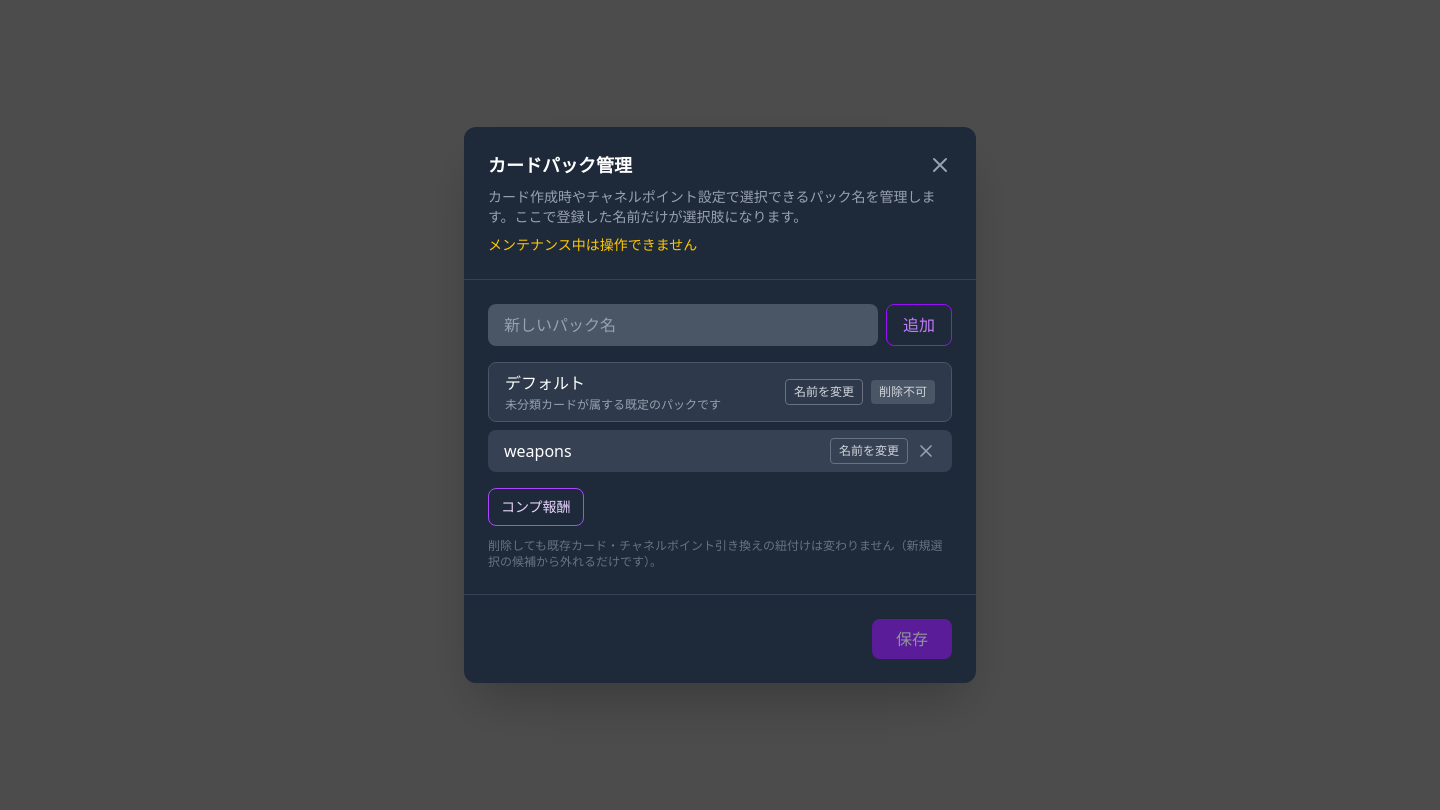
Test case: CardPackModal maintenance integration › リネームのSaveボタンはmode!=offでdisableされる
This screenshot has width=1440, height=810.
Click the button with aria-label "Rename weapons": coordinates (869, 451) [830,438,908,464]
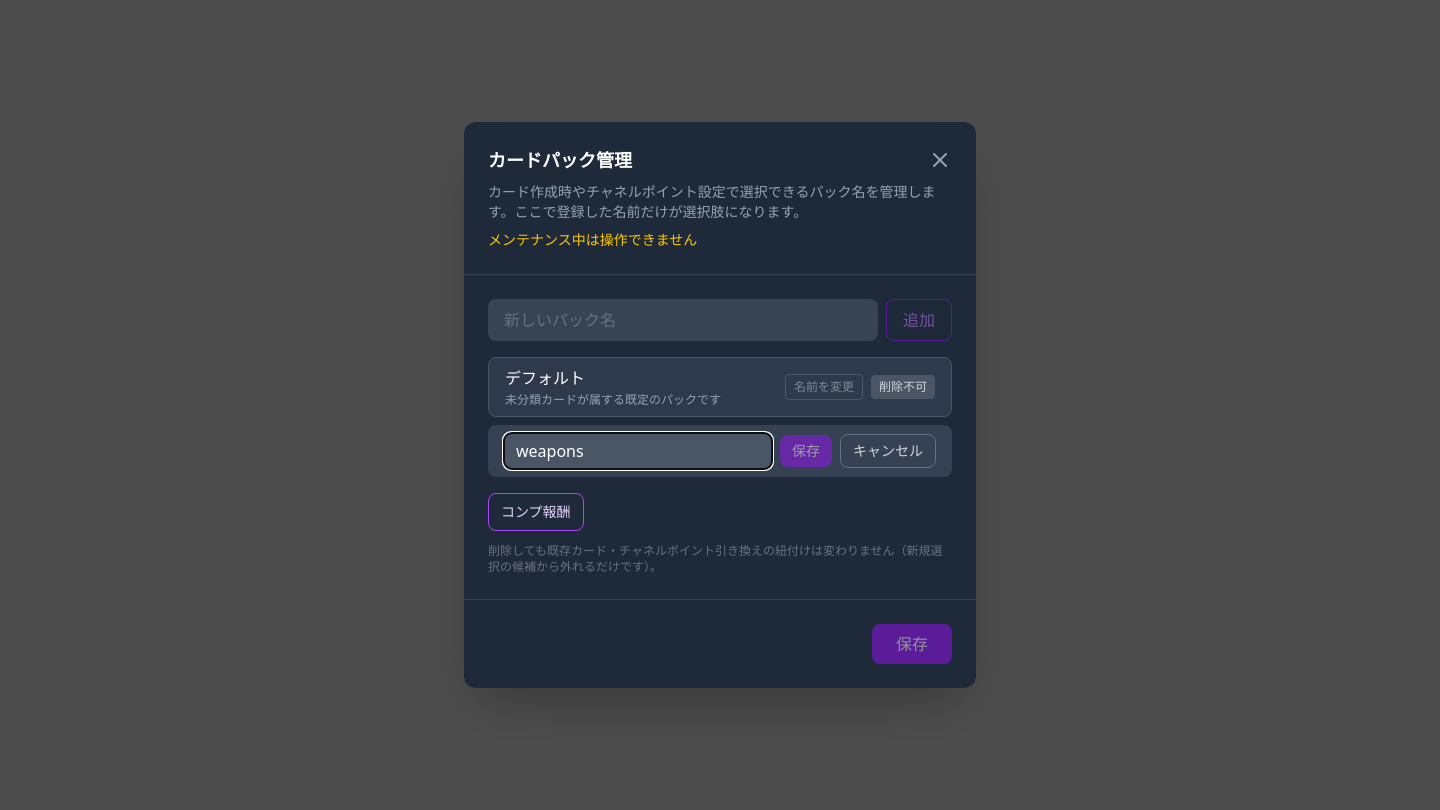
Expected: the 2nd button "保存" is disabled, [872,624,952,664]
Result: the button "保存" below "未分類カードが属する既定のパックです" is disabled at [780,435,832,467]
